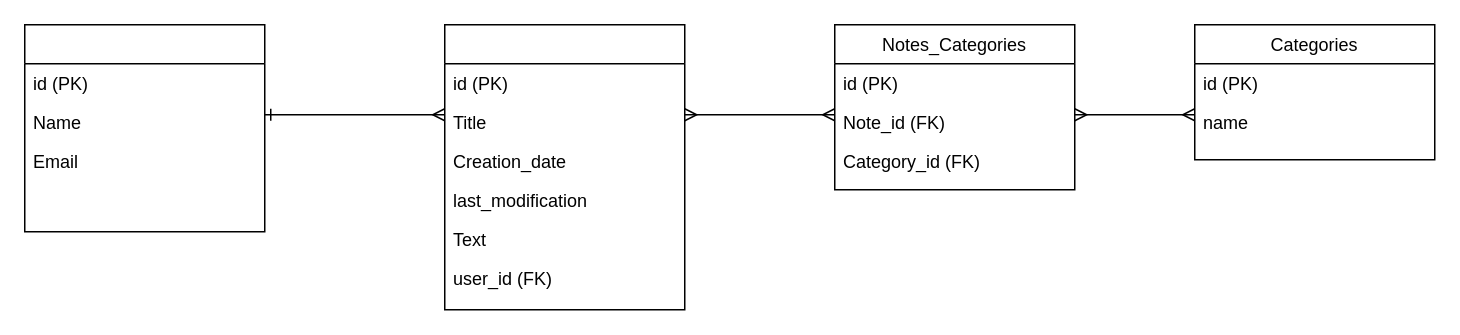
The diagram is 1460 pixels wide and 335 high, and some of its shapes have lost their labels. Here are the shapes that lost their labels. From the top down, the box of each, then its label:
(23, 23, 265, 232): User
(443, 23, 685, 310): Notes
